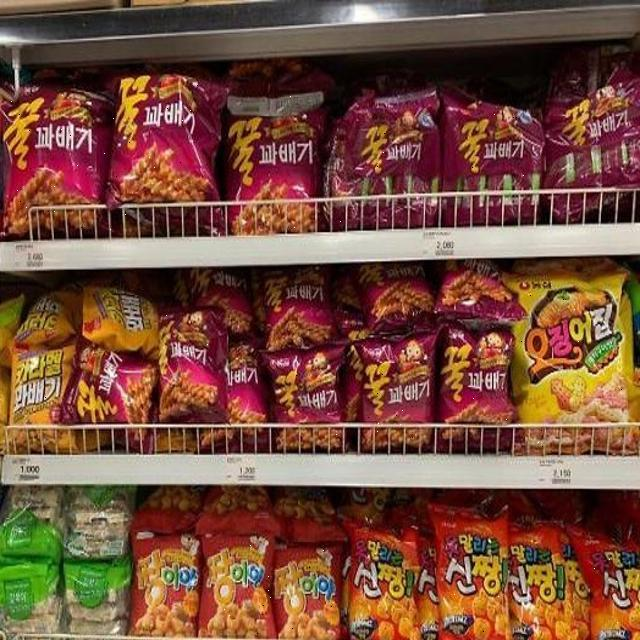product: (516, 280, 632, 450), (110, 82, 208, 233), (1, 89, 105, 229), (218, 86, 318, 228), (328, 90, 432, 222), (449, 98, 547, 220), (350, 332, 436, 449), (151, 304, 227, 429), (441, 327, 516, 452), (264, 349, 347, 459), (339, 525, 419, 639), (433, 512, 503, 640), (128, 524, 204, 640), (510, 518, 576, 640), (204, 531, 276, 640), (9, 350, 77, 450), (275, 538, 340, 631), (589, 538, 640, 636)
